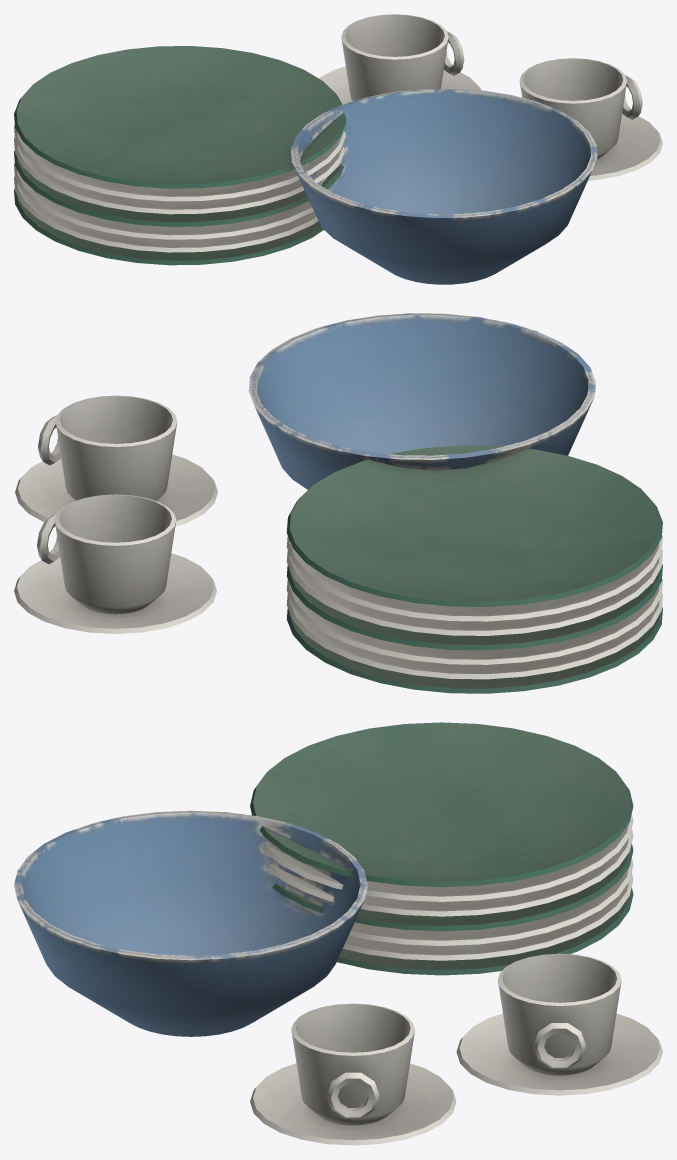
The model's file is clutter_dishes.glb.
3 renders of one model, top to bottom at view 1: azimuth 30°, elevation 25°; view 2: azimuth 150°, elevation 25°; view 3: azimuth 270°, elevation 25°, orthographic. The views are drawn at different scales.
Visible parts, largest first — view 1: clutter_dishes; view 2: clutter_dishes; view 3: clutter_dishes.
Boxes of the visible parts, x1,y1,x2,y2 form: clutter_dishes: [14, 14, 662, 284]; clutter_dishes: [14, 313, 662, 693]; clutter_dishes: [14, 722, 662, 1145].
Bounding box in the file's own units: 0.52 × 0.091 × 0.44.
Materials: 1 (1 with a texture image).
